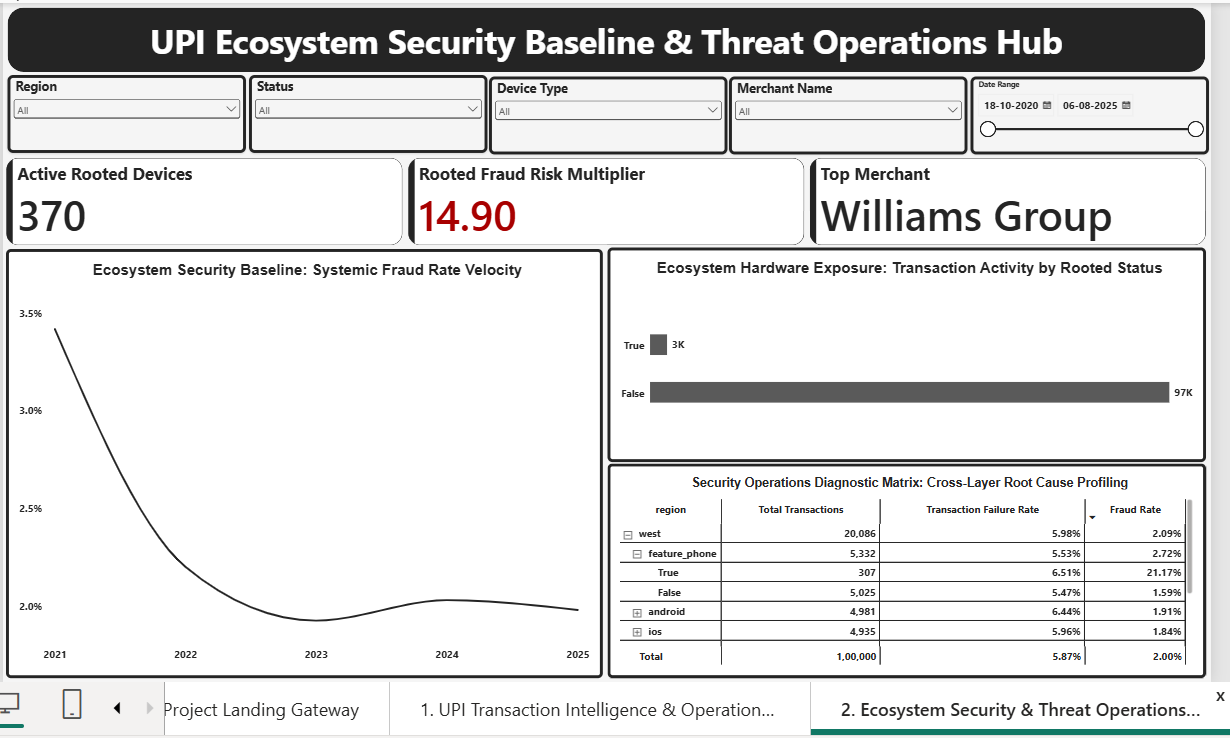

This screenshot's page, from the dashboard's own definition file:
{"tool":"powerbi","page":{"name":"2. Ecosystem Security & Threat Operations Hub","canvas":[1920,1080],"ordinal":2},"visuals":[{"type":"shape","box":[7.7,7.7,1905.1,102.6],"z":0},{"type":"cardVisual","fields":{"Data":["_All Measures.Active Rooted Devices","_All Measures.Rooted Fraud Risk Multiplier","_All Measures.Top Merchant"]},"box":[4.8,245.7,1911.1,140.8],"z":1000},{"type":"lineChart","title":"Ecosystem Security Baseline: Systemic Fraud Rate Velocity","fields":{"Category":["upi_analytics_db upi_transaction_history.timestamp.Variation.Date Hierarchy.Year","upi_analytics_db upi_transaction_history.timestamp.Variation.Date Hierarchy.Month"],"Y":["_All Measures.Fraud Rate"]},"box":[4.8,391.3,949.6,682.4],"z":2000},{"type":"clusteredBarChart","title":"Ecosystem Hardware Exposure: Transaction Activity by Rooted Status","fields":{"Category":["upi_analytics_db device_info.is_rooted"],"Y":["_All Measures.Total Transactions"]},"box":[961.5,388.9,952,341.2],"z":3000},{"type":"pivotTable","title":"Security Operations Diagnostic Matrix: Cross-Layer Root Cause Profiling","fields":{"Rows":["upi_analytics_db customer_master.region","upi_analytics_db device_info.device_type","upi_analytics_db device_info.is_rooted"],"Values":["_All Measures.Total Transactions","_All Measures.Transaction Failure Rate","_All Measures.Fraud Rate"]},"box":[961.5,732.5,952,341.2],"z":4000},{"type":"slicer","fields":{"Values":["upi_analytics_db customer_master.region"]},"box":[7.2,114.5,379.4,124.1],"z":5000},{"type":"slicer","fields":{"Values":["upi_analytics_db device_info.device_type"]},"box":[773,116.9,379.4,124.1],"z":6000},{"type":"slicer","fields":{"Values":["upi_analytics_db merchant_info.merchant_name"]},"box":[1154.8,116.9,379.4,124.1],"z":7000},{"type":"slicer","fields":{"Values":["upi_analytics_db upi_transaction_history.status"]},"box":[391.3,114.5,379.4,124.1],"z":8000},{"type":"slicer","fields":{"Values":["upi_analytics_db upi_transaction_history.timestamp"]},"box":[1538.9,116.9,379.4,124.1],"z":9000}]}

Visuals, with their boxes on the page's 1920x1080 design canvas (x1, y1, x2, y2). These are canvas units, not pixel positions in the 1230x738 screenshot, which may show the page scaled, cropped or inside an application window:
shape: locate(8, 8, 1913, 110)
cardVisual - _All Measures.Active Rooted Devices x _All Measures.Rooted Fraud Risk Multiplier: locate(5, 246, 1916, 386)
"Ecosystem Security Baseline: Systemic Fraud Rate Velocity" lineChart: locate(5, 391, 954, 1074)
"Ecosystem Hardware Exposure: Transaction Activity by Rooted Status" clusteredBarChart: locate(962, 389, 1914, 730)
"Security Operations Diagnostic Matrix: Cross-Layer Root Cause Profiling" pivotTable: locate(962, 732, 1914, 1074)
slicer - upi_analytics_db customer_master.region: locate(7, 114, 387, 239)
slicer - upi_analytics_db device_info.device_type: locate(773, 117, 1152, 241)
slicer - upi_analytics_db merchant_info.merchant_name: locate(1155, 117, 1534, 241)
slicer - upi_analytics_db upi_transaction_history.status: locate(391, 114, 771, 239)
slicer - upi_analytics_db upi_transaction_history.timestamp: locate(1539, 117, 1918, 241)
